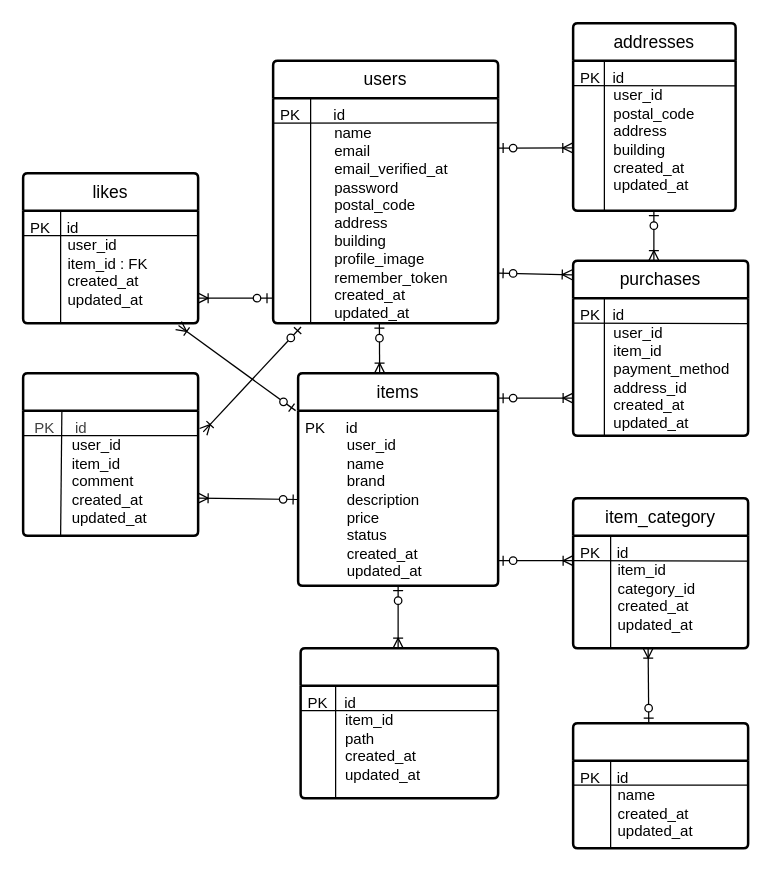
Some shapes in this 771 by 871 pixel diagram are drawn without their labels. Here are the shapes that lost their labels. From the top down, the box of each, then its label:
(21, 371, 199, 536): comments
(299, 646, 499, 799): item_images
(571, 721, 749, 849): categories
